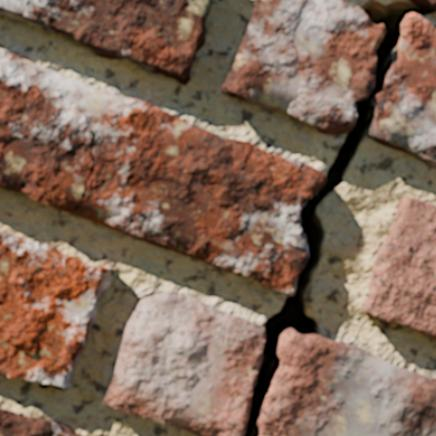brick: (0, 0, 212, 84), (0, 232, 113, 389), (364, 197, 435, 338), (0, 410, 80, 435), (411, 0, 435, 10)
broken_brick: (0, 48, 325, 296), (102, 291, 264, 435), (221, 0, 385, 137), (260, 330, 435, 435), (366, 15, 435, 169)
crack: (242, 0, 433, 435), (66, 131, 118, 212)
